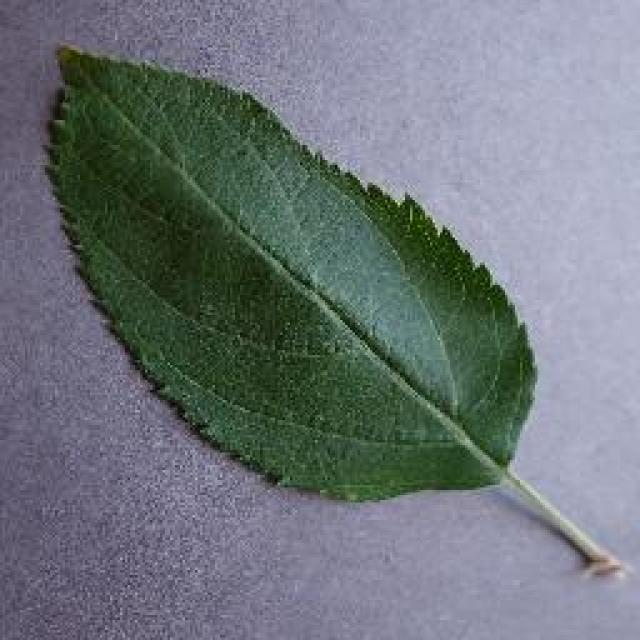apple healthy: (38, 38, 622, 580)
